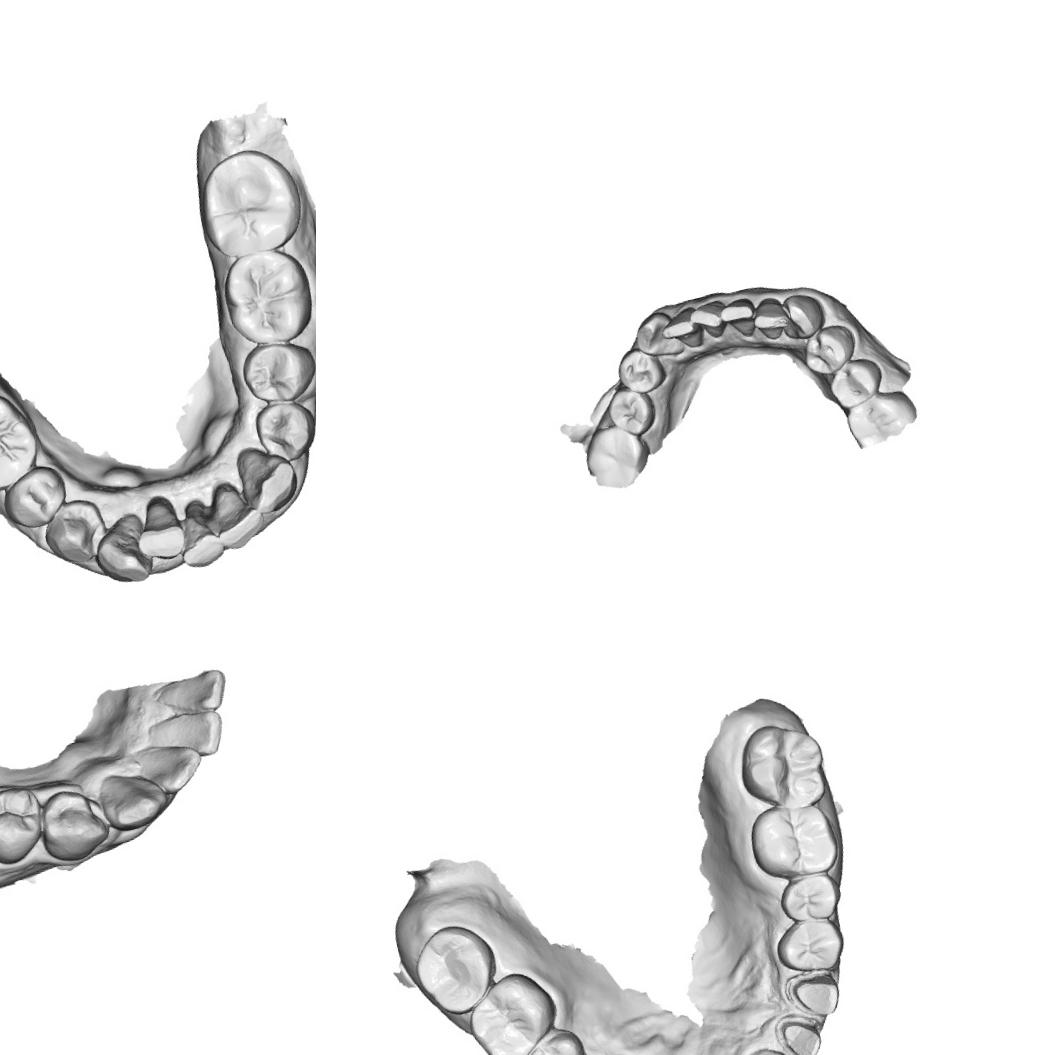canine: (92, 760, 173, 837), (230, 438, 306, 520), (90, 511, 156, 590), (629, 306, 685, 364), (776, 288, 830, 344)
crown: (780, 967, 846, 1029), (772, 1009, 830, 1055)
incisor: (150, 663, 232, 725), (137, 733, 210, 800), (158, 702, 231, 768), (211, 483, 265, 553), (132, 496, 188, 562), (174, 510, 226, 572), (656, 305, 704, 356), (748, 293, 793, 344), (716, 295, 762, 343), (687, 297, 732, 344), (735, 1038, 815, 1055)
molar: (190, 138, 310, 264), (213, 242, 316, 350), (730, 713, 835, 818), (405, 916, 507, 1024), (740, 793, 848, 888), (458, 964, 568, 1055), (578, 416, 657, 494), (839, 384, 922, 452), (0, 384, 43, 502)
premolar: (31, 781, 117, 866), (36, 490, 115, 574), (232, 332, 316, 409), (768, 912, 851, 982), (0, 459, 76, 535), (249, 393, 316, 467), (0, 778, 52, 870), (772, 867, 846, 928), (600, 380, 663, 443), (824, 352, 888, 413), (797, 320, 861, 381), (612, 342, 670, 399), (515, 1023, 592, 1055)
